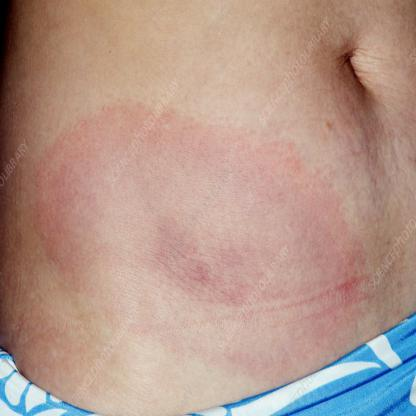Tick: (29, 100, 373, 326)
